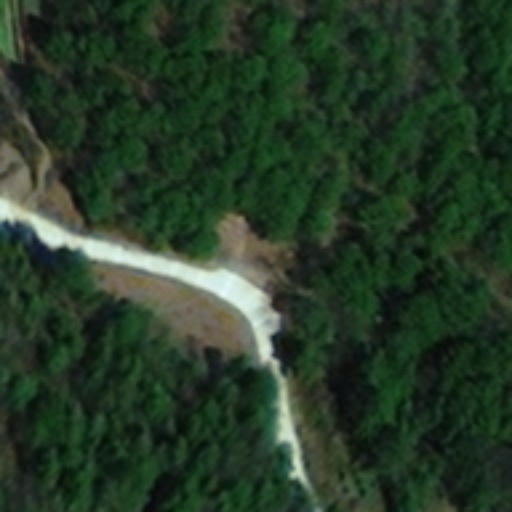landslide: (218, 212, 294, 297)
